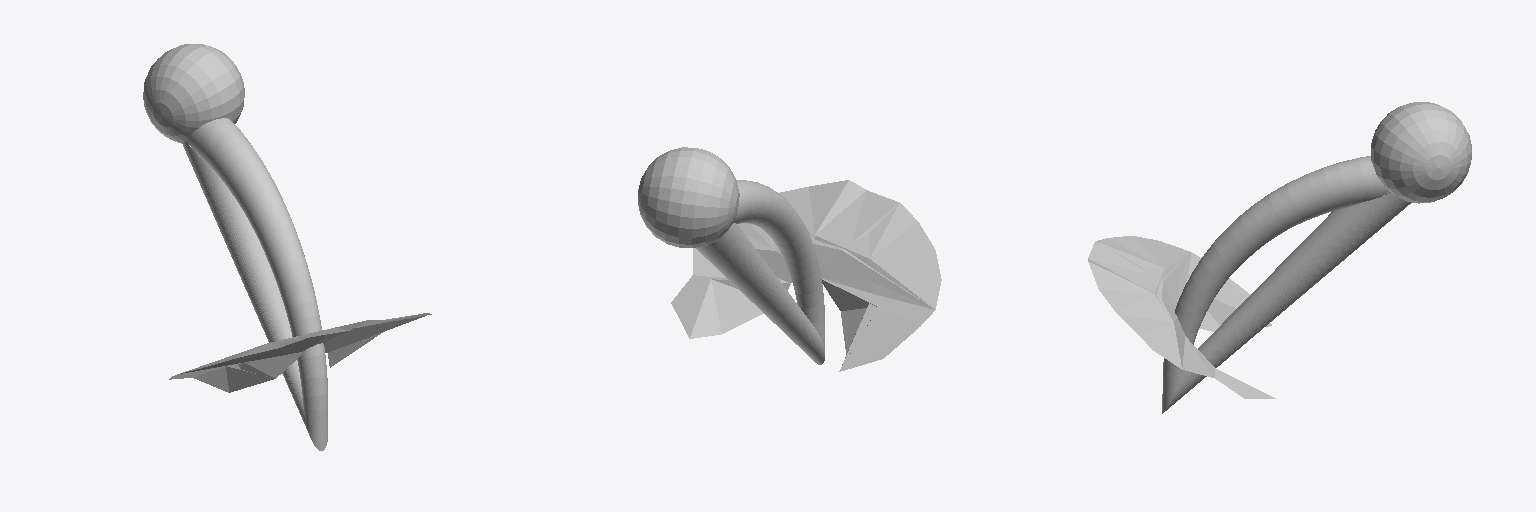
3 renders of one model, left to right at view 1: azimuth 30°, elevation 25°; view 2: azimuth 150°, elevation 25°; view 3: azimuth 270°, elevation 25°, orthographic.
Visible parts, largest first — view 1: Recorrido, Esfera.1, Cylinder01; view 2: Cylinder01, Recorrido, Esfera.1; view 3: Recorrido, Cylinder01, Esfera.1.
Part boxes in pixels (left/top/right/bottom): Recorrido: left=182, top=118, right=327, bottom=450; Esfera.1: left=143, top=44, right=244, bottom=143; Cylinder01: left=169, top=313, right=431, bottom=392; Cylinder01: left=671, top=180, right=941, bottom=371; Recorrido: left=696, top=180, right=824, bottom=364; Esfera.1: left=638, top=147, right=739, bottom=247; Recorrido: left=1162, top=156, right=1411, bottom=413; Cylinder01: left=1088, top=236, right=1275, bottom=398; Esfera.1: left=1371, top=102, right=1471, bottom=203.
Size of the model in its own units: 22.74 by 27.06 by 30.64.